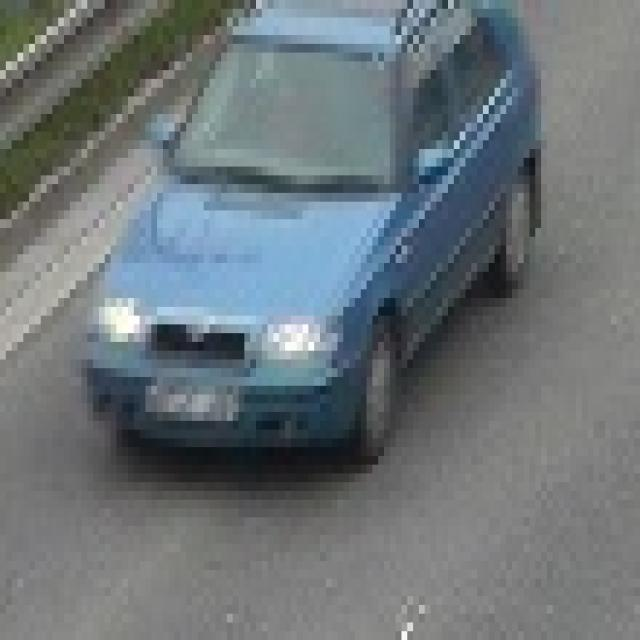blue: (82, 0, 544, 467)
